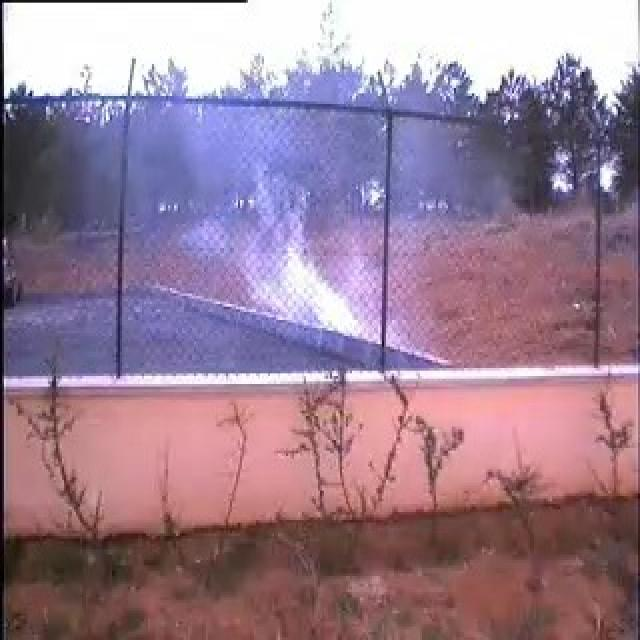smoke: (172, 142, 405, 336)
